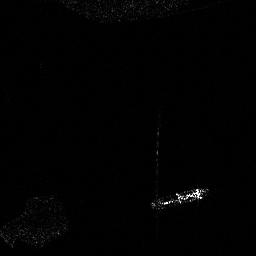ship: (152, 187, 208, 208)
